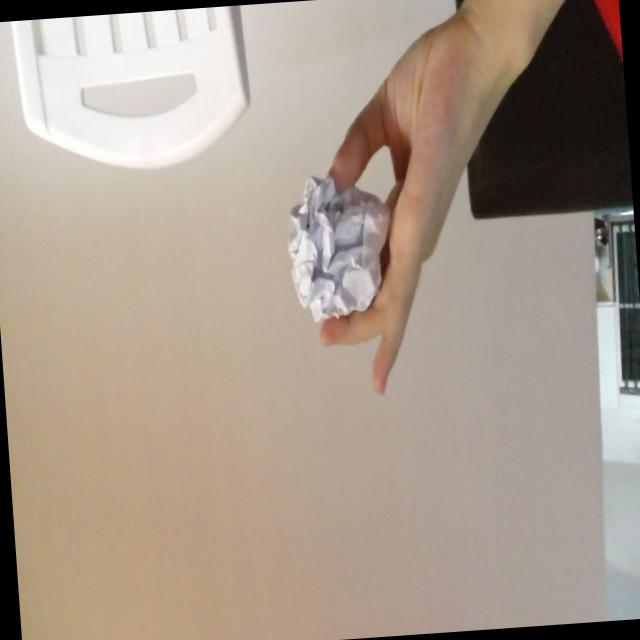crumpled_paper: (282, 166, 397, 332)
